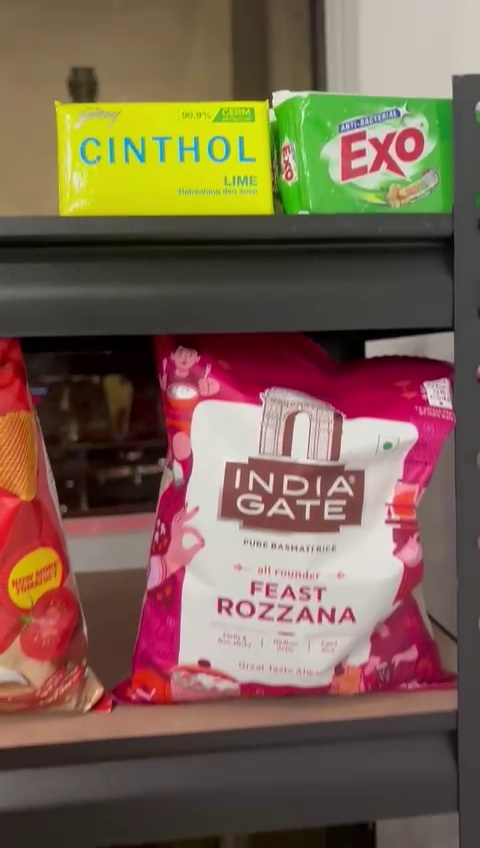Cinthol: (55, 100, 271, 212)
Exo Soap: (281, 98, 453, 210)
India Gate Feast Rozzana: (154, 332, 459, 698)
